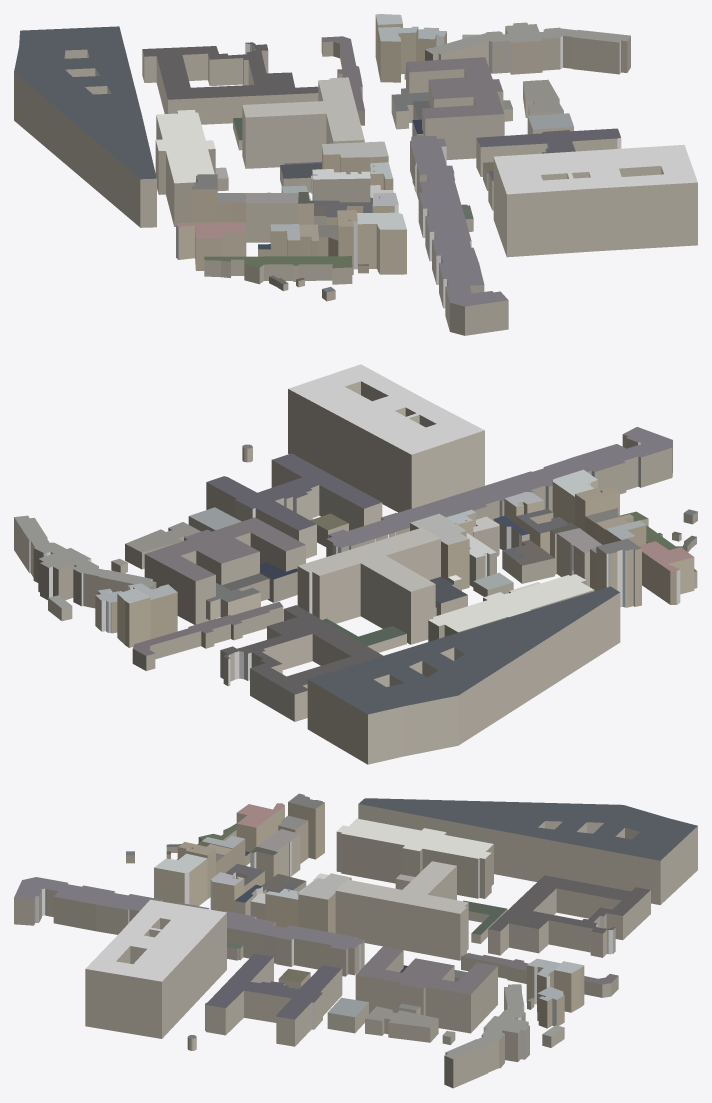
3 renders of one model, top to bottom at view 1: azimuth 30°, elevation 25°; view 2: azimuth 150°, elevation 25°; view 3: azimuth 270°, elevation 25°, orthographic. The views are drawn at different scales.
Parts seen in each view (by area): view 1: tuile; view 2: tuile; view 3: tuile.
Boxes of the visible parts, x1,y1,x2,y2 form: tuile: (14, 14, 697, 335); tuile: (14, 364, 697, 764); tuile: (14, 793, 697, 1088).
Size of the model in its own units: 309 by 39.66 by 365.
